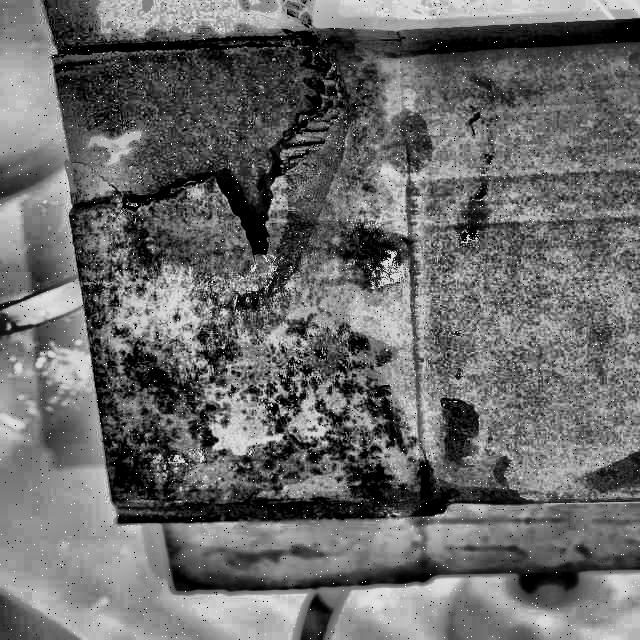box: (30, 1, 640, 578)
wet: (64, 46, 412, 505)
